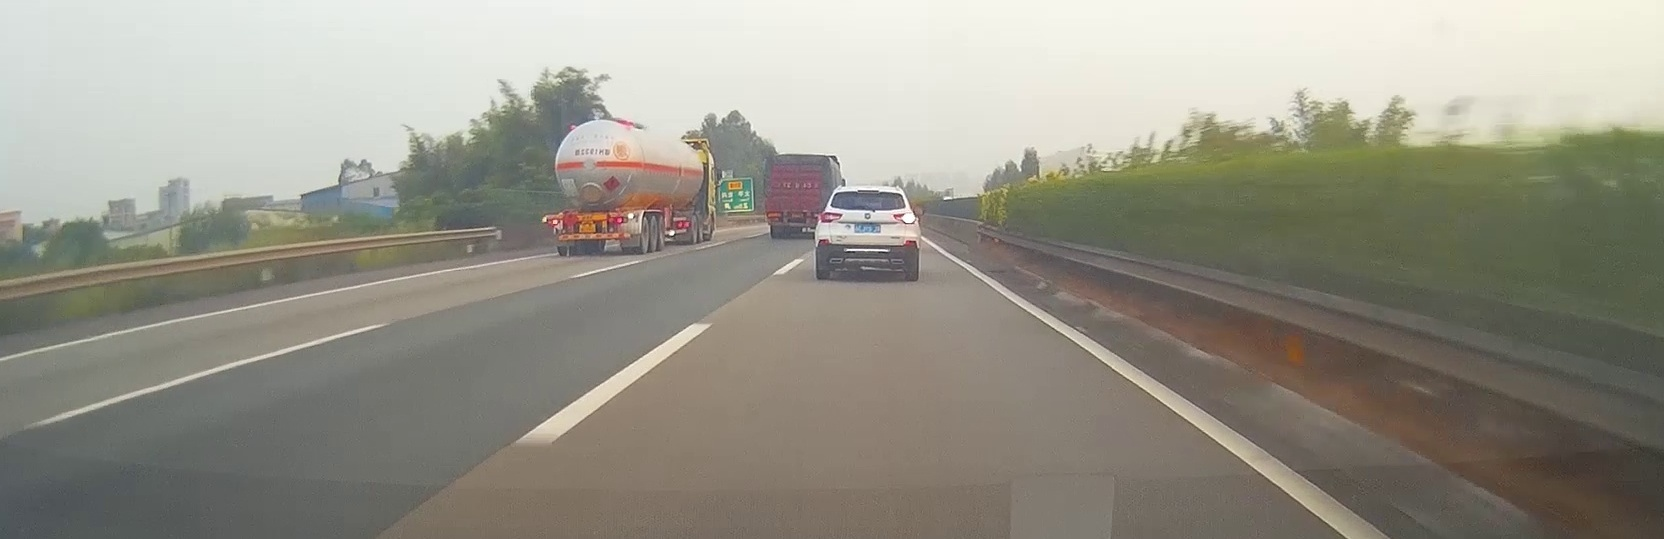L_light: (818, 211, 843, 223), (547, 219, 558, 225)
R_light: (894, 213, 917, 224), (608, 218, 623, 223), (580, 215, 593, 220)
T_light: (857, 189, 879, 193)
day-no: (540, 207, 640, 255)
day-right: (814, 186, 920, 280)
